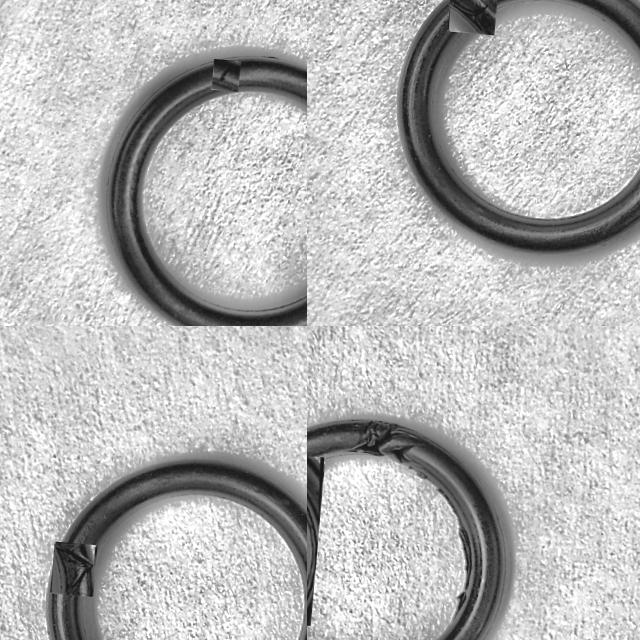切割缺陷: (344, 420, 420, 456), (54, 544, 94, 594), (450, 0, 495, 33), (384, 442, 423, 467), (212, 60, 239, 89)
裂纹: (435, 487, 472, 621), (307, 506, 317, 600), (407, 464, 428, 479)
